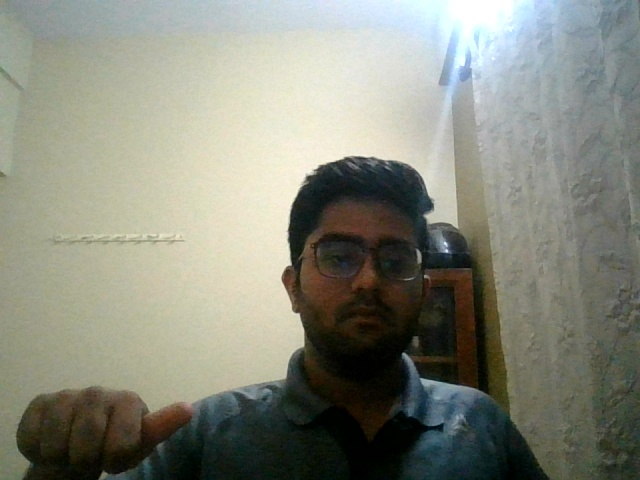Yes: (12, 380, 204, 475)
